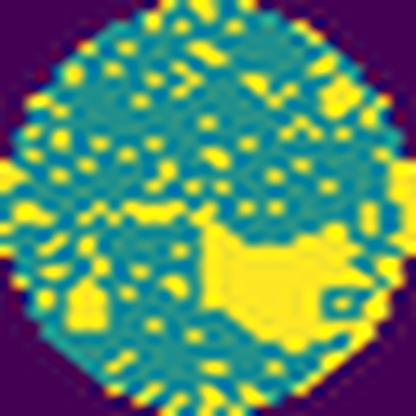Loc: (188, 202, 372, 346), (61, 241, 115, 338), (119, 182, 186, 222)
